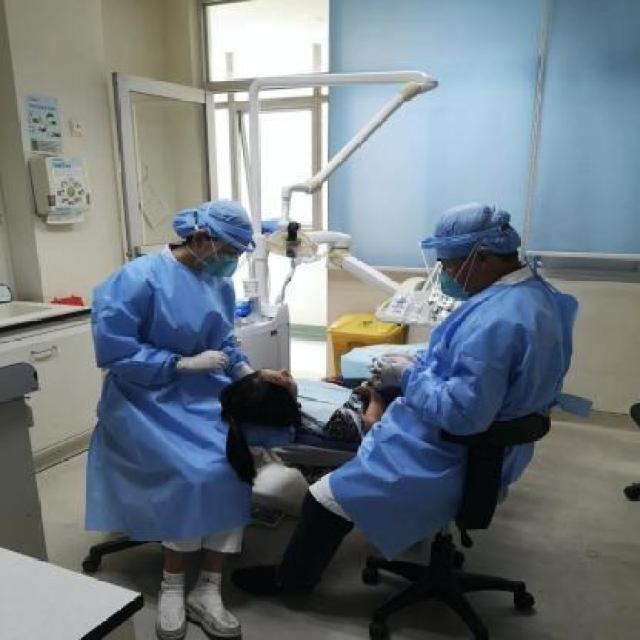face_mask: (438, 244, 478, 302), (202, 240, 243, 283)
hand_glove: (371, 351, 411, 386), (185, 349, 229, 374)
hand_noglove: (355, 383, 374, 395), (320, 377, 343, 385)
head_nohelmet: (196, 191, 258, 254), (432, 205, 513, 252)
person: (325, 204, 569, 590), (94, 194, 254, 640)
shoes: (186, 577, 252, 640), (150, 575, 192, 640)
